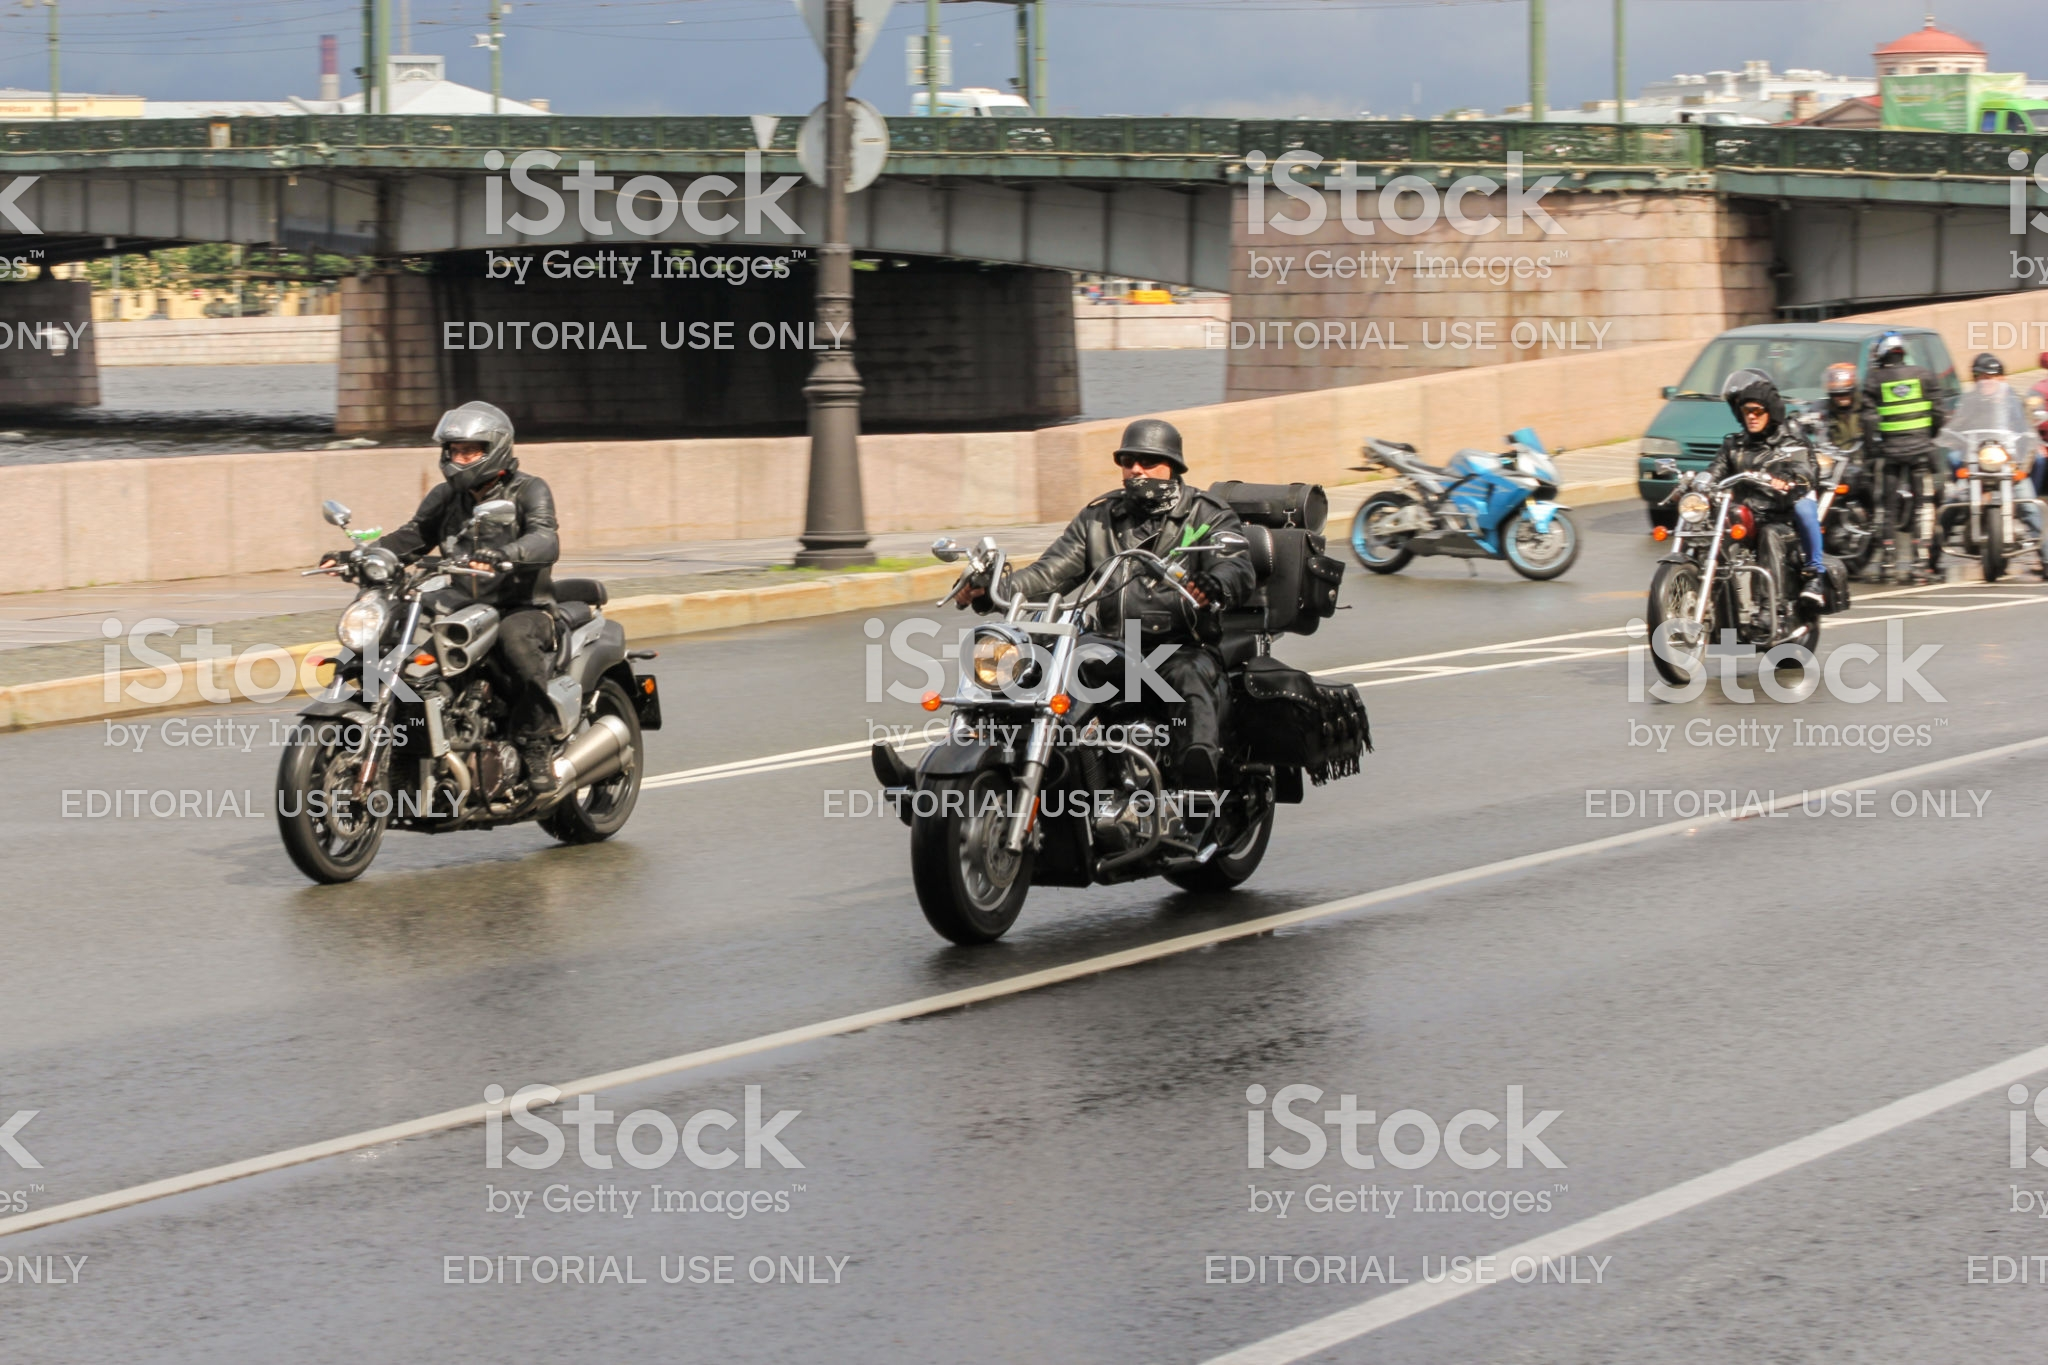helmet: (420, 392, 527, 481), (1112, 419, 1182, 469)
